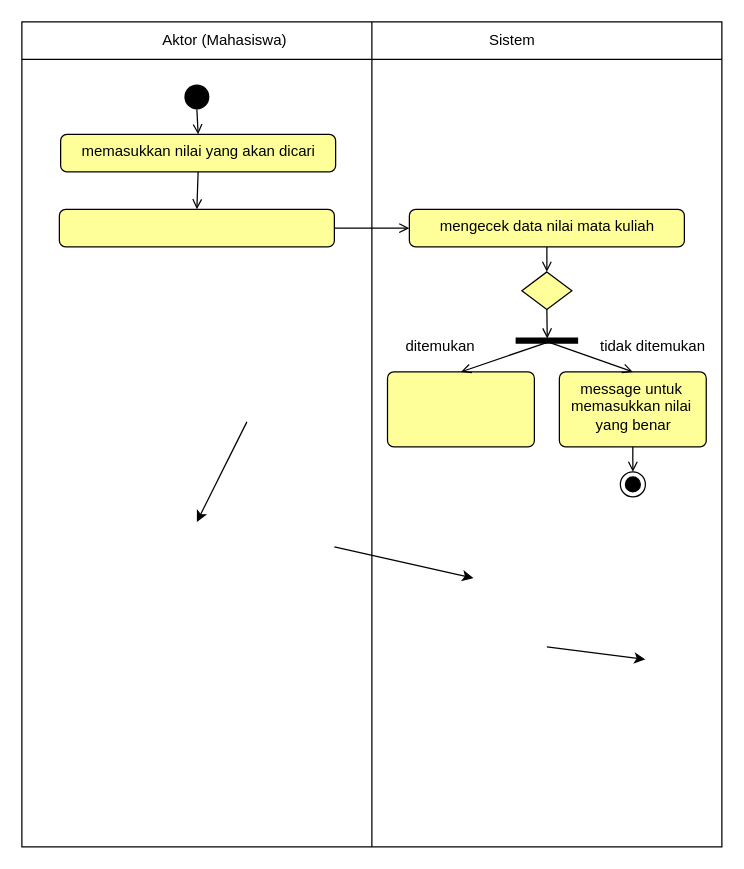
Image size: 744x869. Some labels were removed from this diagram. The shapes that lost their labels are listed below. From the top down, each one's centre as x and y in pixels, then its label:
At (196,227): "klik tombol CARI".
At (460,409): "menampilkan nilai mata kuliah".
